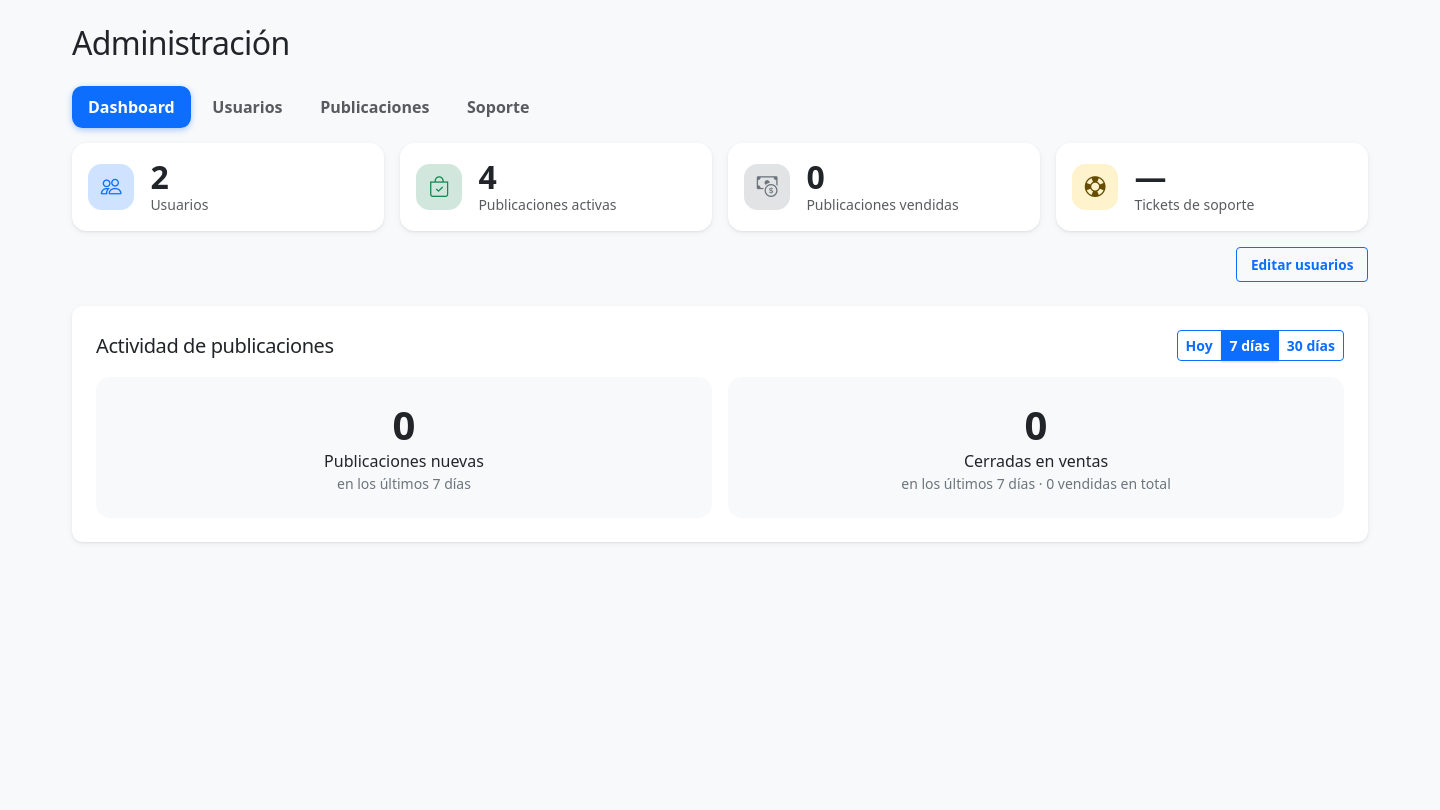
Test: AdminPage (modo simulado) › en la ventana el botón cambia a «Habilitar usuario» si la cuenta ya está deshabilitada
The width and height of the screenshot is (1440, 810).
Step 1. Click the tab "Usuarios" → (247, 107), box [196,86,298,128]
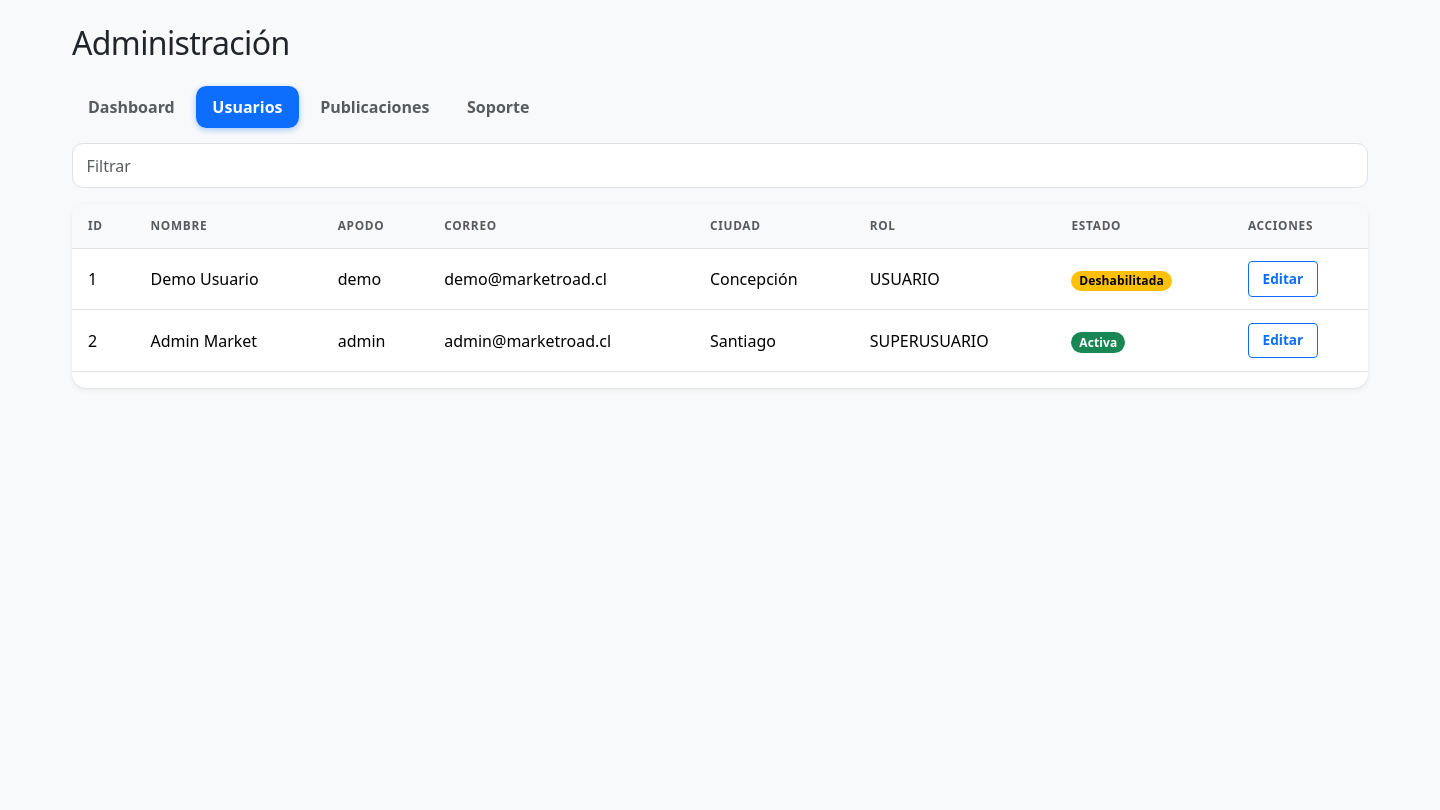
Step 2. Click the button with aria-label "Editar a demo" → (1283, 279), box [1248,261,1318,296]
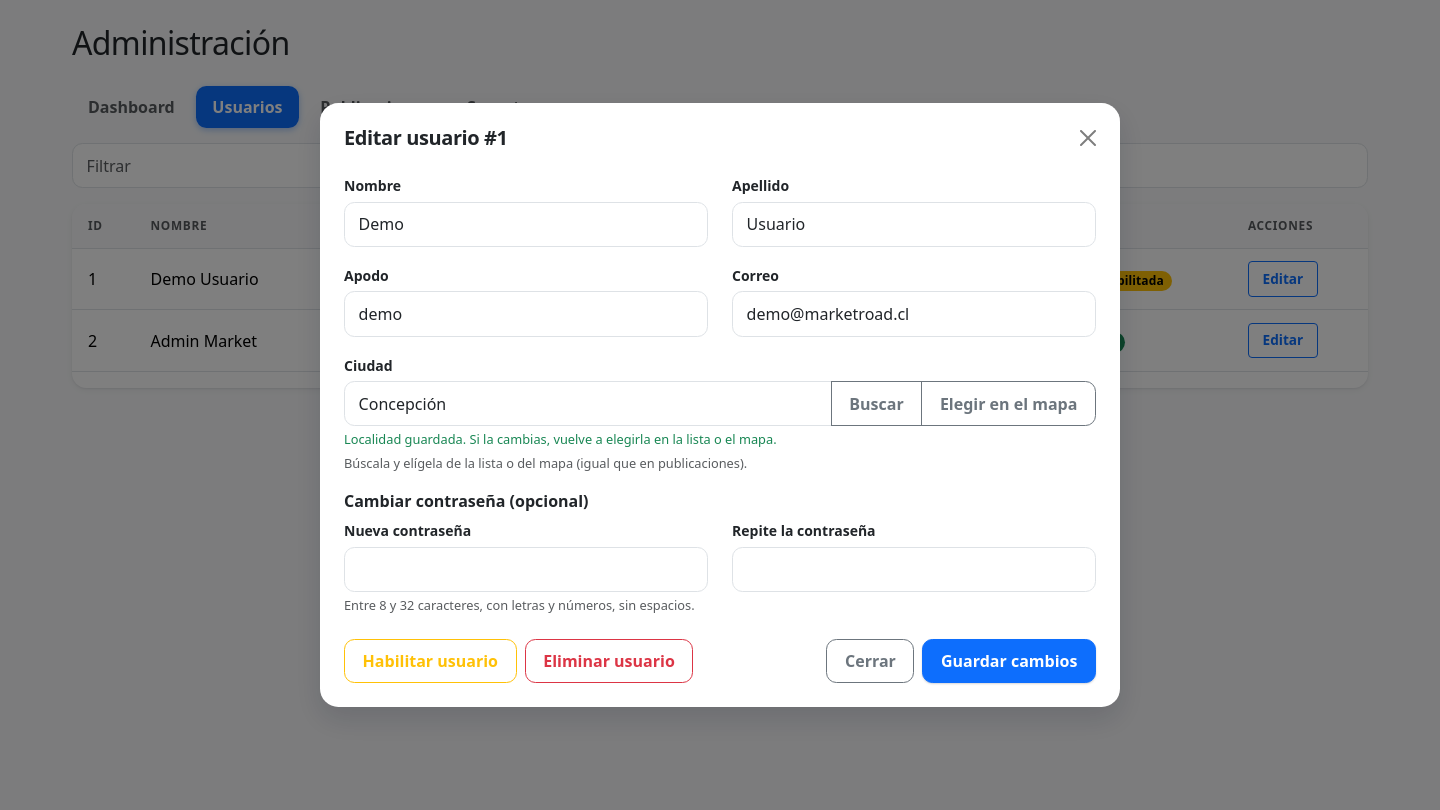
Expected: the button "Habilitar usuario" is shown, [344,639,517,683]
